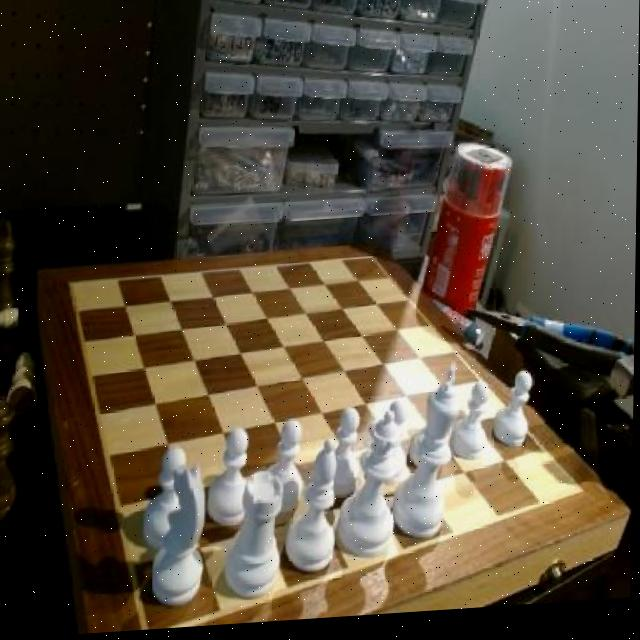black-rook: (287, 443, 353, 581)
white-bishop: (399, 369, 461, 550)
white-king: (148, 470, 218, 615)
white-knight: (139, 445, 191, 552), (209, 428, 256, 531), (496, 378, 540, 461), (269, 421, 304, 525), (451, 388, 496, 467), (328, 415, 363, 496), (380, 405, 407, 488)
white-pawn: (338, 419, 402, 559)
white-queen: (217, 472, 292, 603)
